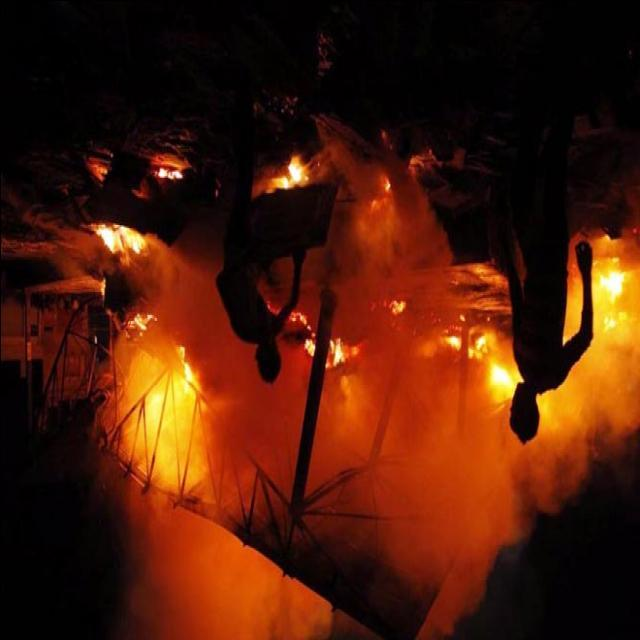Fire: (94, 177, 612, 477)
